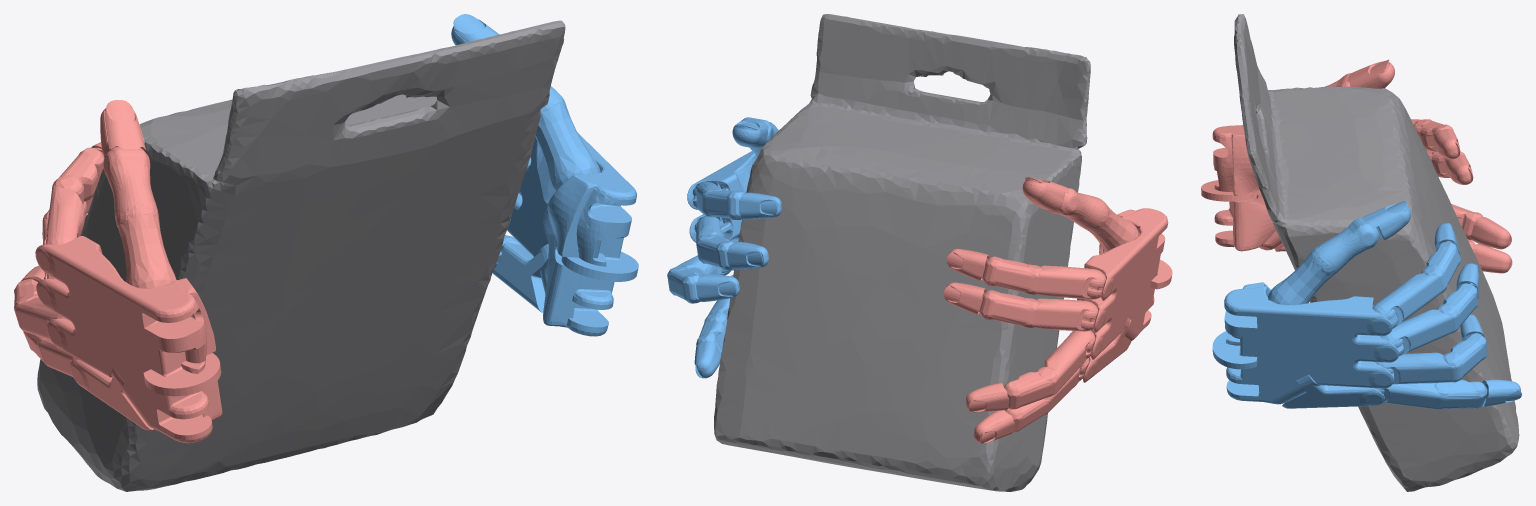
The model's file is mujoco_Epson_LabelWorks_LC4WBN9_Tape_reel_labels_047_x_295_Roll_Black_on_White_scale018_pair19782_grasp.glb.
The picture shows the model from 3 angles, left to right: view 1: azimuth 30°, elevation 25°; view 2: azimuth 150°, elevation 25°; view 3: azimuth 270°, elevation 25°; orthographic projection. The views are drawn at different scales.
Parts seen in each view (by area): view 1: object_mesh, left_shadow_hand, right_shadow_hand; view 2: object_mesh, left_shadow_hand, right_shadow_hand; view 3: object_mesh, right_shadow_hand, left_shadow_hand.
Part boxes in pixels (x1,y1,x2,y2): object_mesh: [37, 20, 565, 491]; left_shadow_hand: [14, 100, 222, 443]; right_shadow_hand: [451, 14, 638, 336]; object_mesh: [714, 14, 1090, 491]; left_shadow_hand: [943, 177, 1172, 443]; right_shadow_hand: [667, 117, 781, 378]; object_mesh: [1234, 14, 1519, 491]; right_shadow_hand: [1212, 201, 1521, 409]; left_shadow_hand: [1201, 59, 1512, 273].
Size of the model in its own units: 0.3084 by 0.2679 by 0.2124.
